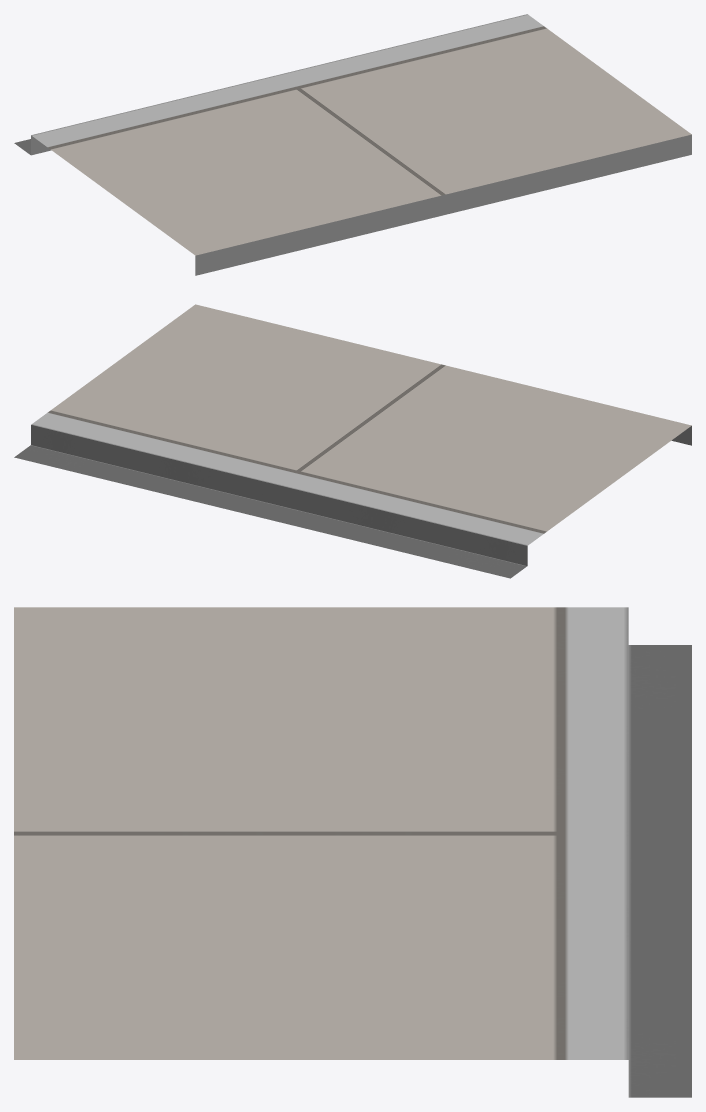
Rendered from sidewalk.fbx.
3 renders of one model, top to bottom at view 1: azimuth 30°, elevation 25°; view 2: azimuth 150°, elevation 25°; view 3: azimuth 270°, elevation 25°, orthographic. The views are drawn at different scales.
Visible parts, largest first — view 1: road_straight_clear_mesh; view 2: road_straight_clear_mesh; view 3: road_straight_clear_mesh.
Part boxes in pixels (bbox=[...]): road_straight_clear_mesh: bbox=[14, 14, 691, 275]; road_straight_clear_mesh: bbox=[14, 304, 691, 578]; road_straight_clear_mesh: bbox=[14, 607, 691, 1097].
Size of the model in its own units: 5 by 0.1948 by 3.17.
1 material, 1 textured.
